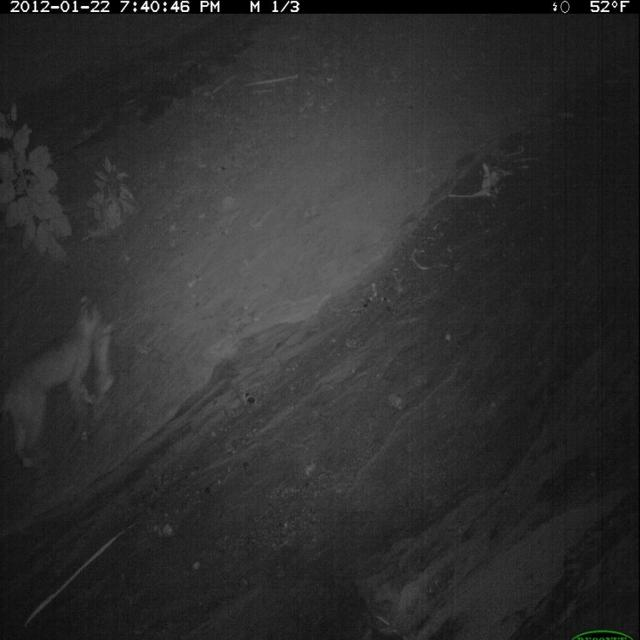bobcat: (1, 285, 110, 473)
rabbit: (89, 318, 122, 420)
